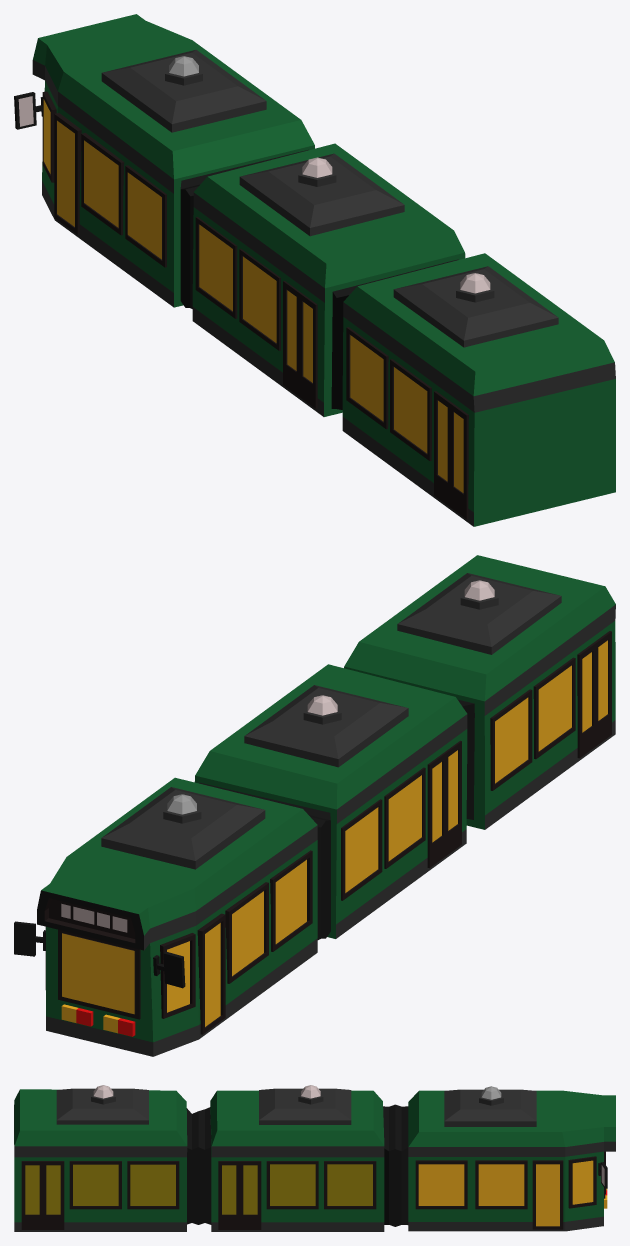
Rendered from train .fbx.
The picture shows the model from 3 angles, top to bottom: view 1: azimuth 30°, elevation 25°; view 2: azimuth 150°, elevation 25°; view 3: azimuth 270°, elevation 25°; orthographic projection. The views are drawn at different scales.
Visible parts, largest first — view 1: Train-Center, Train_Back; view 2: Train-Center, Train_Back; view 3: Train-Center, Train_Back.
Boxes of the visible parts, x1,y1,x2,y2 form: Train-Center: [192, 143, 615, 526]; Train_Back: [14, 14, 314, 308]; Train-Center: [194, 555, 615, 938]; Train_Back: [14, 777, 330, 1056]; Train-Center: [14, 1085, 384, 1231]; Train_Back: [383, 1086, 615, 1231].
Size of the model in its own units: 85.62 by 91.72 by 408.
